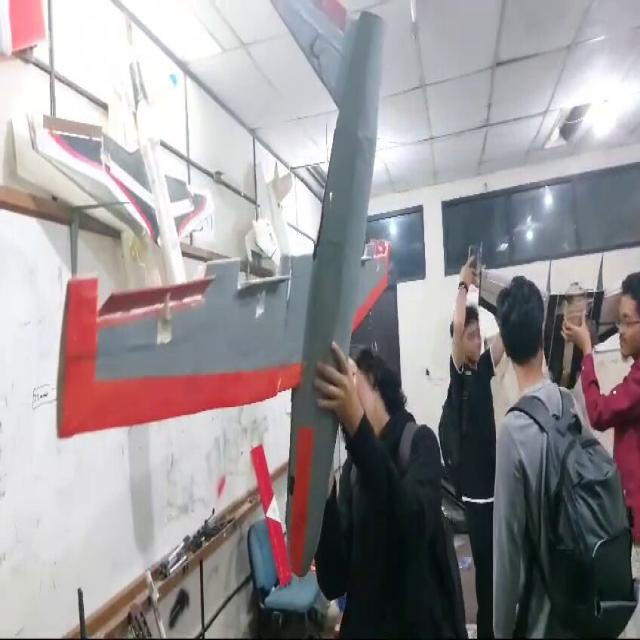plane: (54, 2, 403, 573)
